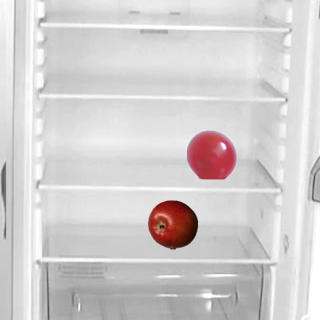Apple Braeburn: (147, 199, 197, 249)
Redcurrant: (186, 129, 236, 179)
